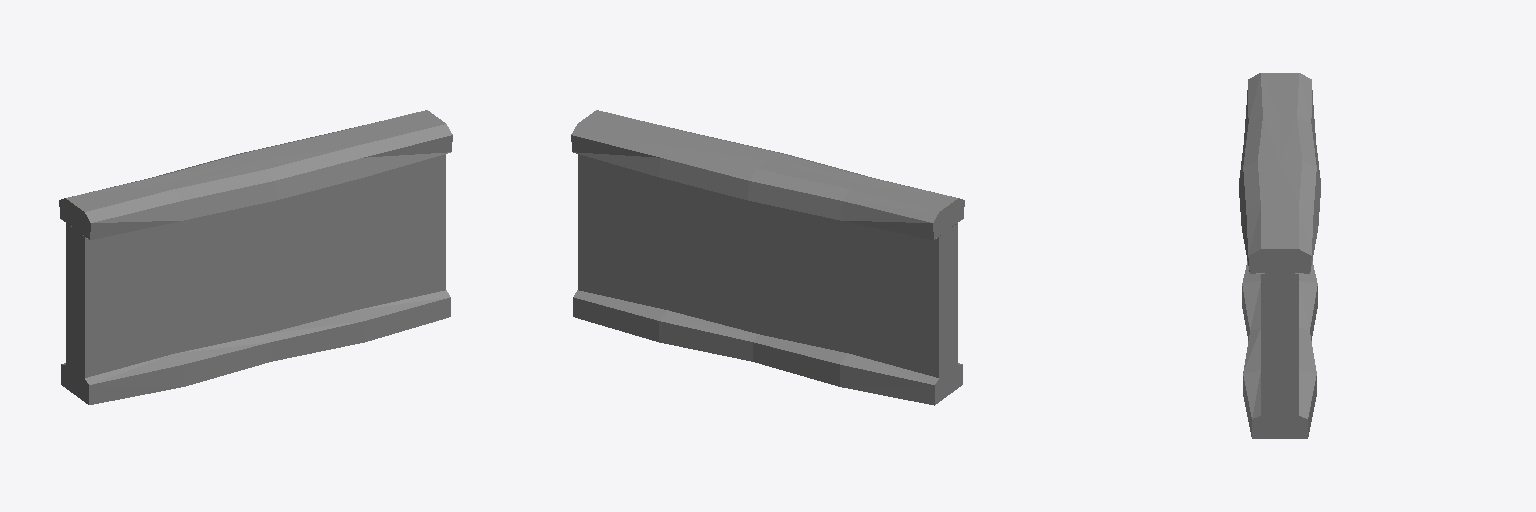
Rendered from WallX.obj.
The picture shows the model from 3 angles: view 1: azimuth 30°, elevation 25°; view 2: azimuth 150°, elevation 25°; view 3: azimuth 270°, elevation 25°; orthographic projection.
Visible parts, largest first — view 1: TEMP.004; view 2: TEMP.004; view 3: TEMP.004.
Part boxes in pixels (x1,y1,x2,y2): TEMP.004: (59,110,452,404); TEMP.004: (571,110,964,405); TEMP.004: (1239,73,1320,438).
Size of the model in its own units: 64 by 32.11 by 12.68.